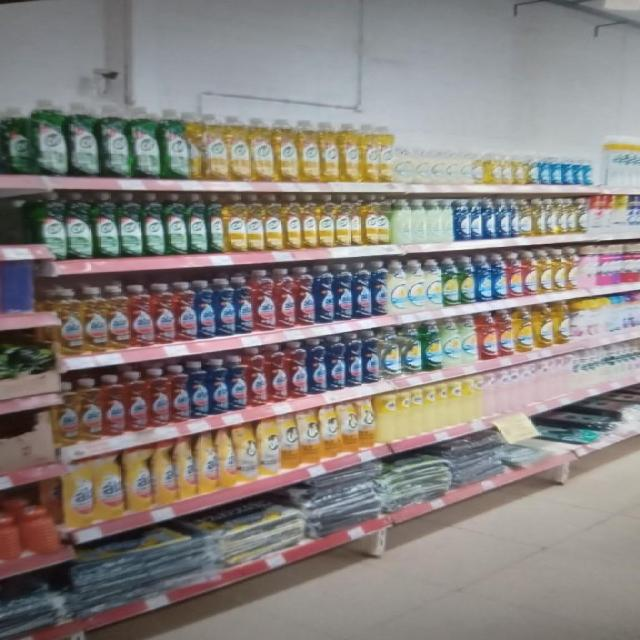ala_conc_amarillo: (51, 287, 82, 356), (52, 377, 78, 446), (83, 286, 107, 353), (79, 377, 102, 441), (108, 285, 130, 350)
ala_conc_azul: (216, 277, 235, 337), (315, 264, 334, 324), (228, 355, 248, 411), (190, 361, 209, 418), (197, 280, 215, 340), (335, 264, 353, 321), (353, 262, 371, 319), (236, 275, 253, 335), (210, 358, 228, 414), (309, 338, 327, 394), (328, 336, 346, 390), (363, 331, 380, 384), (372, 261, 388, 316), (347, 333, 362, 387)
ala_conc_rojo: (131, 284, 153, 348), (254, 269, 276, 332), (104, 374, 125, 437), (126, 372, 148, 432), (154, 283, 175, 345), (276, 267, 296, 329), (150, 367, 170, 428), (268, 344, 288, 404), (248, 347, 268, 407), (176, 281, 196, 341), (288, 340, 308, 399), (170, 364, 190, 423), (296, 266, 314, 326)
ala_sachet_amarillo: (61, 458, 92, 526), (95, 452, 124, 520), (126, 445, 152, 512)
cif_conc_bot_amarilla: (202, 113, 227, 181), (250, 117, 274, 182), (228, 116, 250, 182), (275, 117, 297, 182), (298, 119, 320, 183), (320, 120, 340, 184), (340, 122, 360, 184), (226, 195, 246, 252), (361, 122, 380, 182), (246, 195, 264, 252), (264, 196, 282, 252), (364, 196, 384, 246), (188, 110, 201, 180), (284, 195, 300, 250), (318, 196, 334, 248), (302, 195, 317, 249), (336, 195, 351, 247), (377, 196, 391, 245), (351, 196, 362, 246)
cif_conc_botella_verde: (33, 98, 67, 176), (68, 102, 98, 177), (2, 104, 32, 176), (100, 104, 129, 178), (131, 106, 160, 179), (34, 192, 65, 260), (161, 108, 189, 180), (66, 192, 92, 260), (118, 192, 142, 258), (94, 192, 117, 259), (143, 192, 164, 257), (165, 193, 186, 256), (187, 193, 207, 254), (208, 194, 224, 254)
magistral_con_azul: (459, 255, 475, 304), (476, 254, 492, 302), (493, 253, 507, 300), (454, 200, 469, 242), (482, 198, 496, 240), (469, 199, 483, 240), (498, 198, 511, 239)
